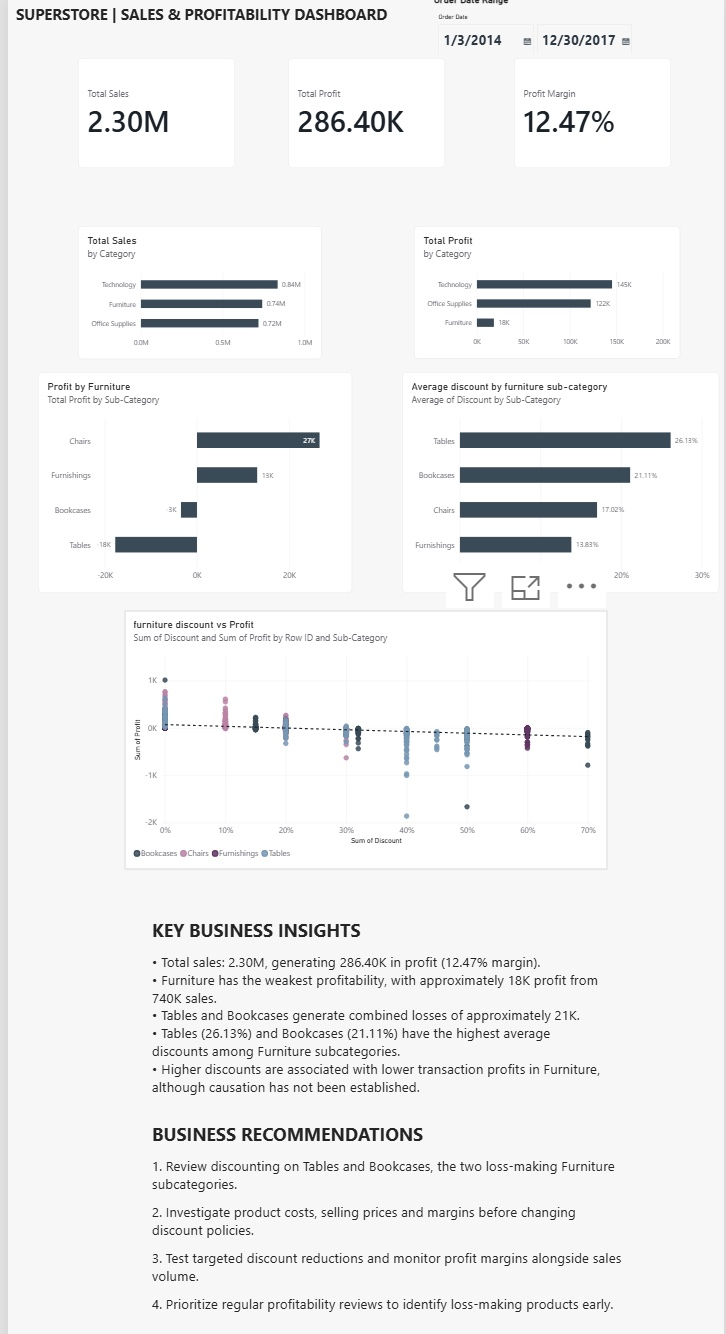

What the dashboard file says about the page in this screenshot:
{"tool":"powerbi","page":{"name":"executive dashboard","canvas":[1280,3000],"ordinal":1},"visuals":[{"type":"cardVisual","fields":{"Data":["sales_transactions.Total Sales"]},"box":[125.4,115.1,280.4,196],"z":0},{"type":"cardVisual","fields":{"Data":["sales_transactions.Total Profit"]},"box":[501.5,115.1,280.4,196],"z":1},{"type":"cardVisual","fields":{"Data":["sales_transactions.Profit Margin"]},"box":[902.7,115.1,280.4,196],"z":2},{"type":"clusteredBarChart","fields":{"Category":["sales_transactions.Category"],"Y":["sales_transactions.Total Sales"]},"box":[125.4,414.9,435.4,238.2],"z":3},{"type":"clusteredBarChart","fields":{"Category":["sales_transactions.Category"],"Y":["sales_transactions.Total Profit"]},"box":[726.1,416,475.3,237.1],"z":4},{"type":"clusteredBarChart","title":"Profit by Furniture","fields":{"Category":["sales_transactions.Sub-Category"],"Y":["sales_transactions.Total Profit"]},"box":[53.6,675.9,560.8,394.4],"z":5},{"type":"clusteredBarChart","title":"Average discount by furniture sub-category","fields":{"Category":["sales_transactions.Sub-Category"],"Y":["Avg(sales_transactions.Discount)"]},"box":[704.4,675.9,566.5,394.4],"z":6},{"type":"scatterChart","title":"furniture discount vs Profit","fields":{"Category":["sales_transactions.Row ID"],"Series":["sales_transactions.Sub-Category"],"X":["Sum(sales_transactions.Discount)"],"Y":["Sum(sales_transactions.Profit)"]},"box":[206.3,1098.8,864,466.2],"z":7},{"type":"textbox","box":[15.1,19.2,678.8,44.4],"z":8},{"type":"textbox","box":[257.6,1649.3,812.7,346.5],"z":9},{"type":"textbox","box":[257.6,2015.2,853.7,348.8],"z":10},{"type":"slicer","title":"Order Date Range","fields":{"Values":["sales_transactions.Order Date"]},"box":[761.4,0,479.9,106],"z":11}]}

Visuals, with their boxes on the page's 1280x3000 design canvas (x1, y1, x2, y2). These are canvas units, not pixel positions in the 726x1334 screenshot, which may show the page scaled, cropped or inside an application window:
cardVisual - sales_transactions.Total Sales: 125:115:406:311
cardVisual - sales_transactions.Total Profit: 502:115:782:311
cardVisual - sales_transactions.Profit Margin: 903:115:1183:311
clusteredBarChart - sales_transactions.Category x sales_transactions.Total Sales: 125:415:561:653
clusteredBarChart - sales_transactions.Category x sales_transactions.Total Profit: 726:416:1201:653
"Profit by Furniture" clusteredBarChart: 54:676:614:1070
"Average discount by furniture sub-category" clusteredBarChart: 704:676:1271:1070
"furniture discount vs Profit" scatterChart: 206:1099:1070:1565
textbox: 15:19:694:64
textbox: 258:1649:1070:1996
textbox: 258:2015:1111:2364
"Order Date Range" slicer: 761:0:1241:106
